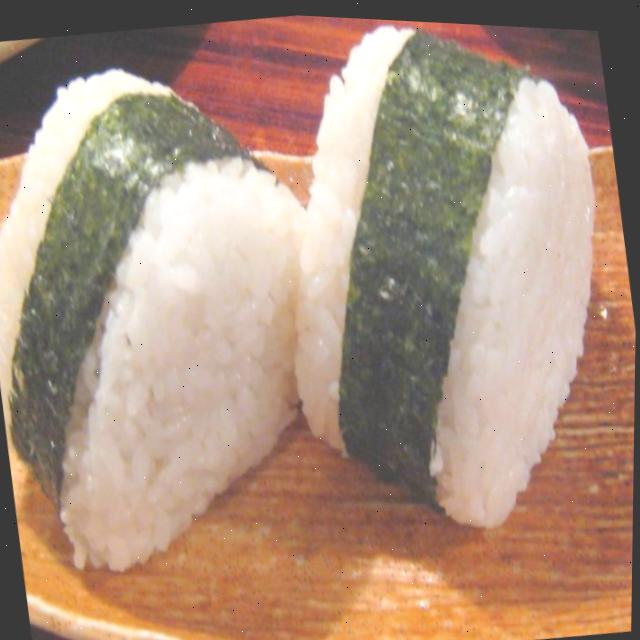米饭主食: (240, 10, 640, 559), (0, 32, 354, 589)
